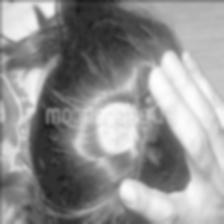Toxin: (92, 110, 134, 158)
